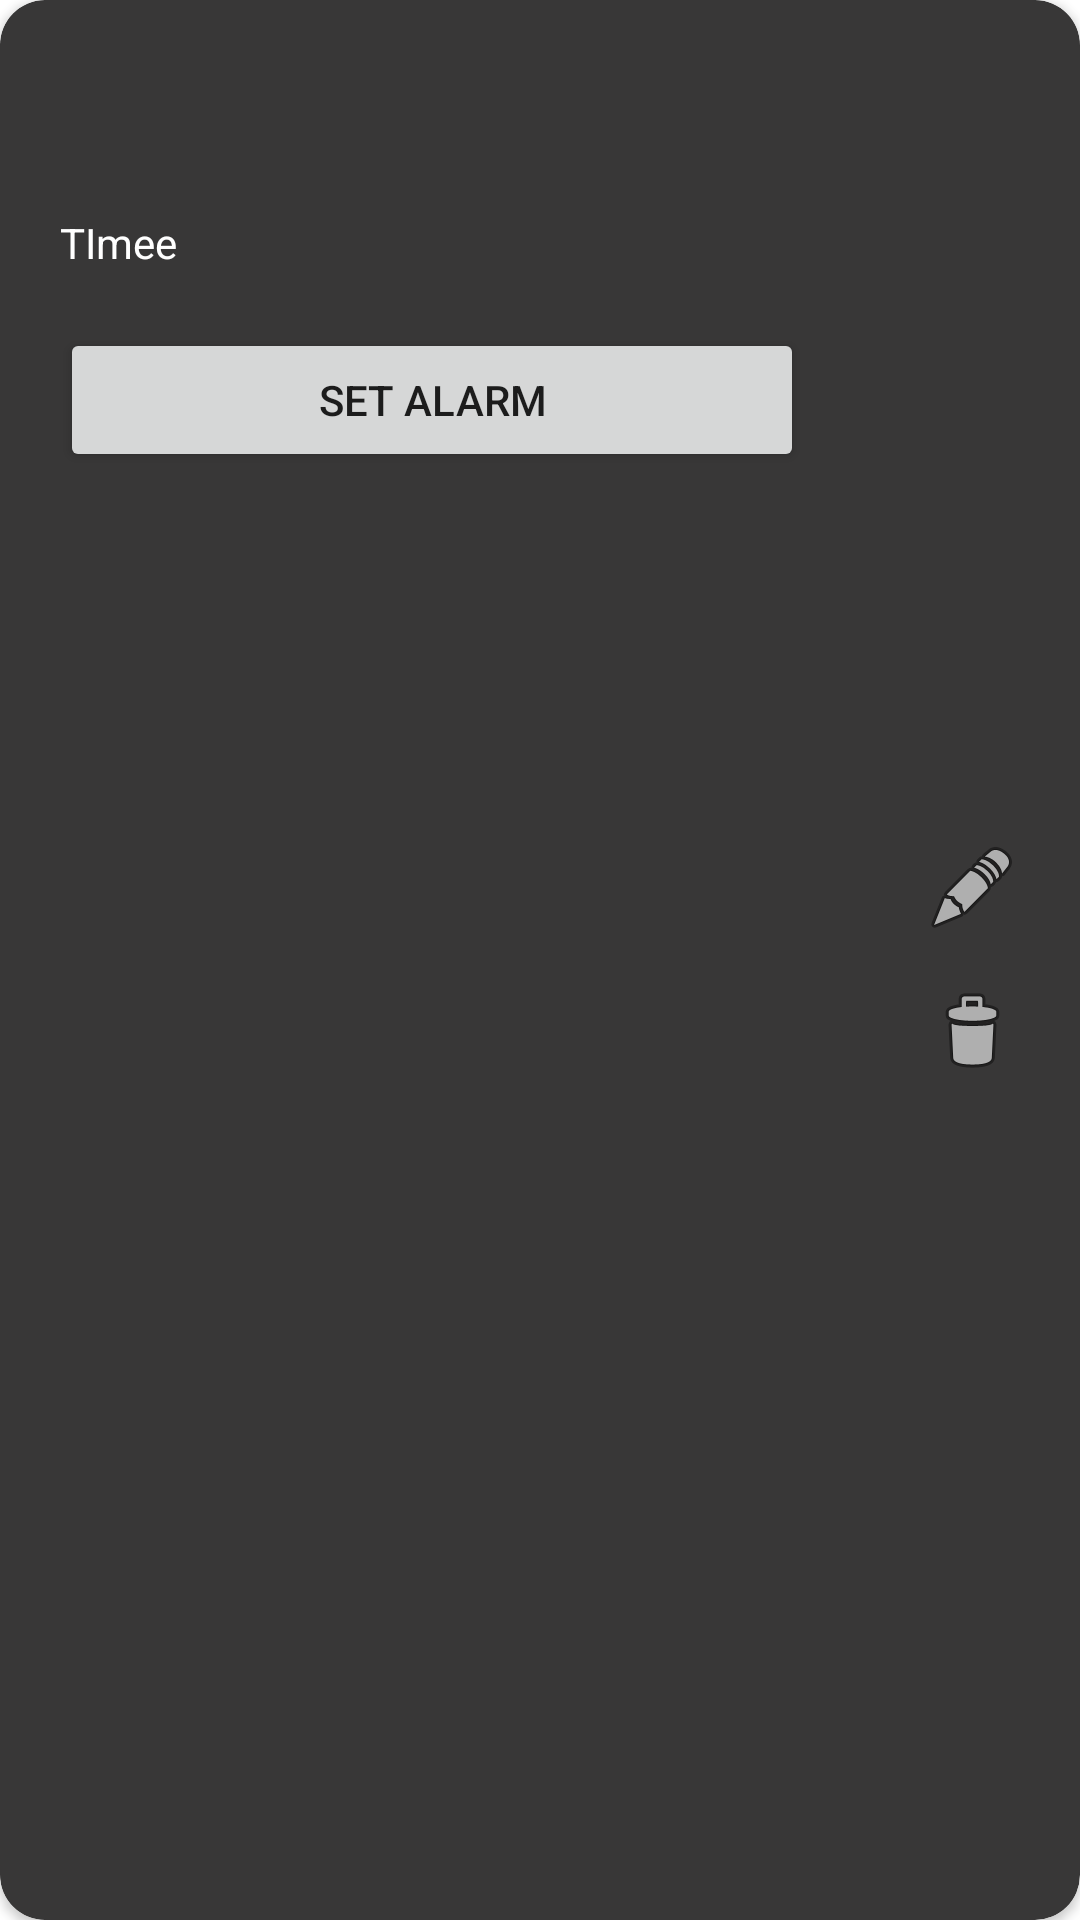

Named icons in this screenshot (1080w x 1920h) and their centers, (x=x, y=y):
delete: (x=972, y=1030)
edit: (x=971, y=887)
